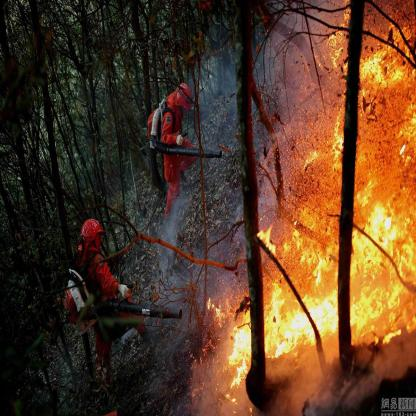fire: (254, 16, 413, 348), (207, 294, 253, 376)
